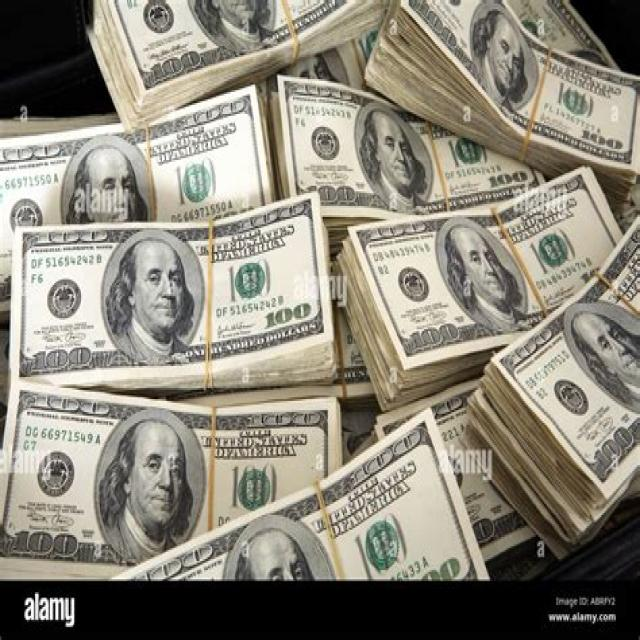Hundred: (0, 384, 338, 576), (111, 410, 490, 581), (9, 194, 322, 387), (350, 168, 626, 371), (0, 86, 268, 243), (401, 0, 637, 177), (275, 72, 547, 220), (494, 225, 640, 486), (101, 0, 356, 88)
